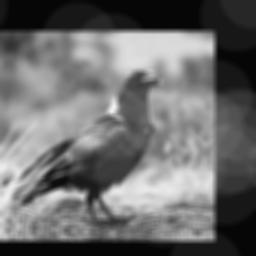Crow: (11, 57, 168, 236)
